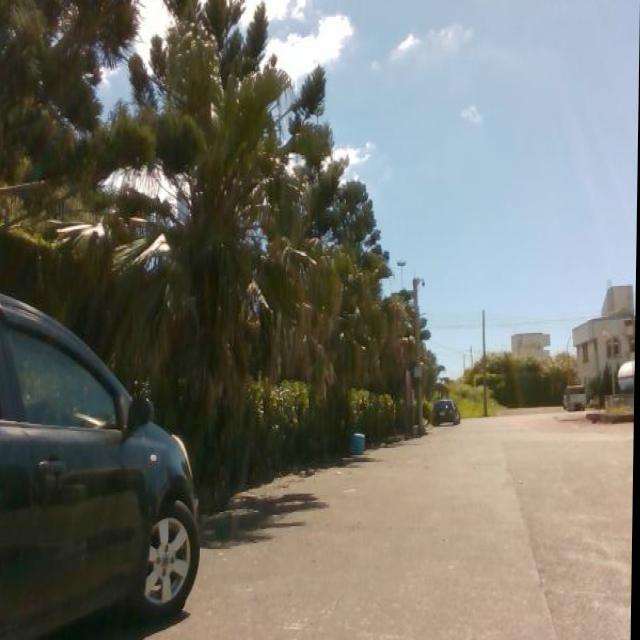pollute: (349, 431, 372, 454)
